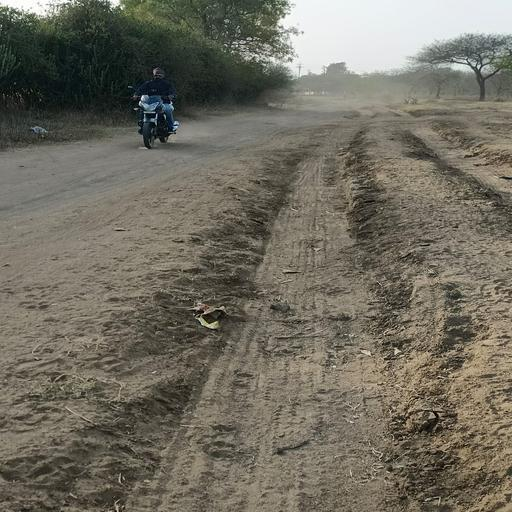vehicle_track: (129, 125, 413, 512), (0, 116, 312, 234), (406, 126, 512, 198)
